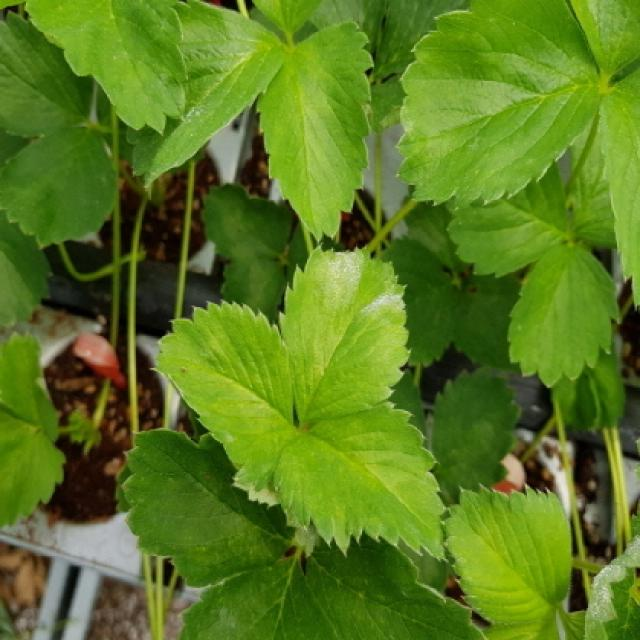Powdery Mildew Leaf: (123, 0, 291, 201), (278, 242, 412, 424), (582, 506, 640, 638)
